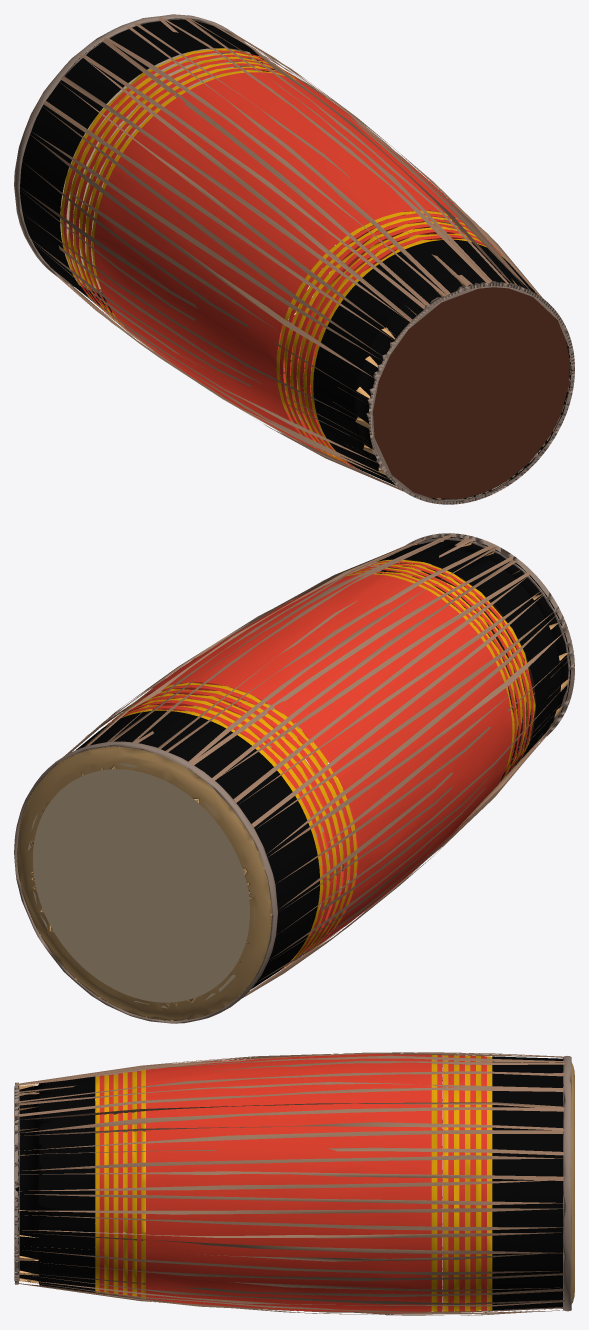
Rendered from realdhol.glb.
The picture shows the model from 3 angles, top to bottom: view 1: azimuth 30°, elevation 25°; view 2: azimuth 150°, elevation 25°; view 3: azimuth 270°, elevation 25°; orthographic projection. The views are drawn at different scales.
Visible parts, largest first — view 1: Khola_Main_0, Barati_Material.001_0, Kuboni_Material.003_0, Khola_Black_0, Khola_Yellow_0, Cylinder_Korol_0, Taali_Material.002_0; view 2: Khola_Main_0, Taali_Material.002_0, Barati_Material.001_0, Khola_Black_0, Katani Saal_Material_0, Khola_Yellow_0, Cylinder_Korol_0, Kuboni_Material.003_0; view 3: Khola_Main_0, Barati_Material.001_0, Khola_Black_0, Khola_Yellow_0, Cylinder_Korol_0, Katani Saal_Material_0, Faring_Bamboo_0.
Boxes of the visible parts, x1,y1,x2,y2 form: Khola_Main_0: (63,50,501,468); Barati_Material.001_0: (19,17,542,491); Kuboni_Material.003_0: (373,287,569,499); Khola_Black_0: (20,19,571,499); Khola_Yellow_0: (60,48,507,466); Cylinder_Korol_0: (14,14,574,504); Taali_Material.002_0: (60,48,236,264); Khola_Main_0: (101,561,533,969); Taali_Material.002_0: (27,763,254,1008); Barati_Material.001_0: (63,535,570,998); Khola_Black_0: (17,537,570,1020); Katani Saal_Material_0: (17,746,272,1020); Khola_Yellow_0: (105,559,535,968); Cylinder_Korol_0: (14,533,574,1023); Kuboni_Material.003_0: (386,559,535,747); Khola_Main_0: (99,1054,486,1313); Barati_Material.001_0: (14,1052,568,1315); Khola_Black_0: (15,1056,562,1310); Khola_Yellow_0: (95,1055,492,1311); Cylinder_Korol_0: (14,1056,571,1311); Katani Saal_Material_0: (571,1062,574,1303); Faring_Bamboo_0: (19,1083,38,1283).
Size of the model in its own units: 0.1883 by 0.1877 by 0.4003.
9 materials, 2 textured.
